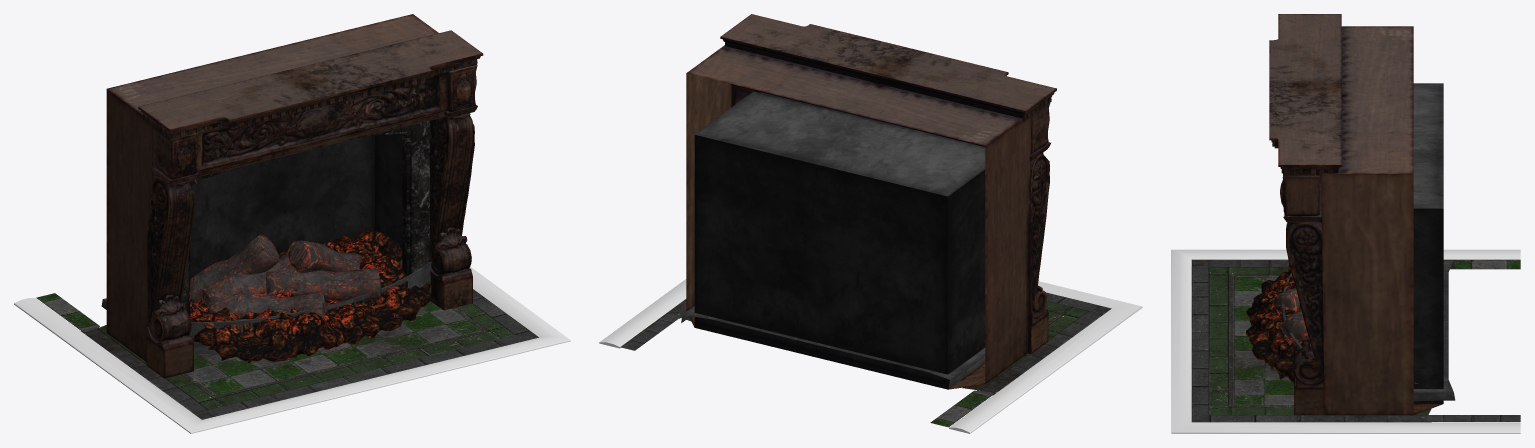
Rendered from FirePlace.fbx.
The picture shows the model from 3 angles, left to right: view 1: azimuth 30°, elevation 25°; view 2: azimuth 150°, elevation 25°; view 3: azimuth 270°, elevation 25°; orthographic projection. The views are drawn at different scales.
Visible parts, largest first — view 1: SM_Fireplace_LOD0, SM_Fireplace_Platform_LOD0, SM_Fireplace_Cole_LOD0; view 2: SM_Fireplace_LOD0, SM_Fireplace_Platform_LOD0; view 3: SM_Fireplace_LOD0, SM_Fireplace_Platform_LOD0, SM_Fireplace_Cole_LOD0.
Boxes of the visible parts, x1,y1,x2,y2 form: SM_Fireplace_LOD0: [101, 14, 483, 378]; SM_Fireplace_Platform_LOD0: [14, 266, 570, 433]; SM_Fireplace_Cole_LOD0: [190, 229, 431, 362]; SM_Fireplace_LOD0: [681, 14, 1056, 389]; SM_Fireplace_Platform_LOD0: [599, 279, 1142, 433]; SM_Fireplace_LOD0: [1269, 14, 1455, 415]; SM_Fireplace_Platform_LOD0: [1171, 249, 1520, 433]; SM_Fireplace_Cole_LOD0: [1246, 265, 1418, 383].
Bounding box in the file's own units: 295 × 190 × 238.
